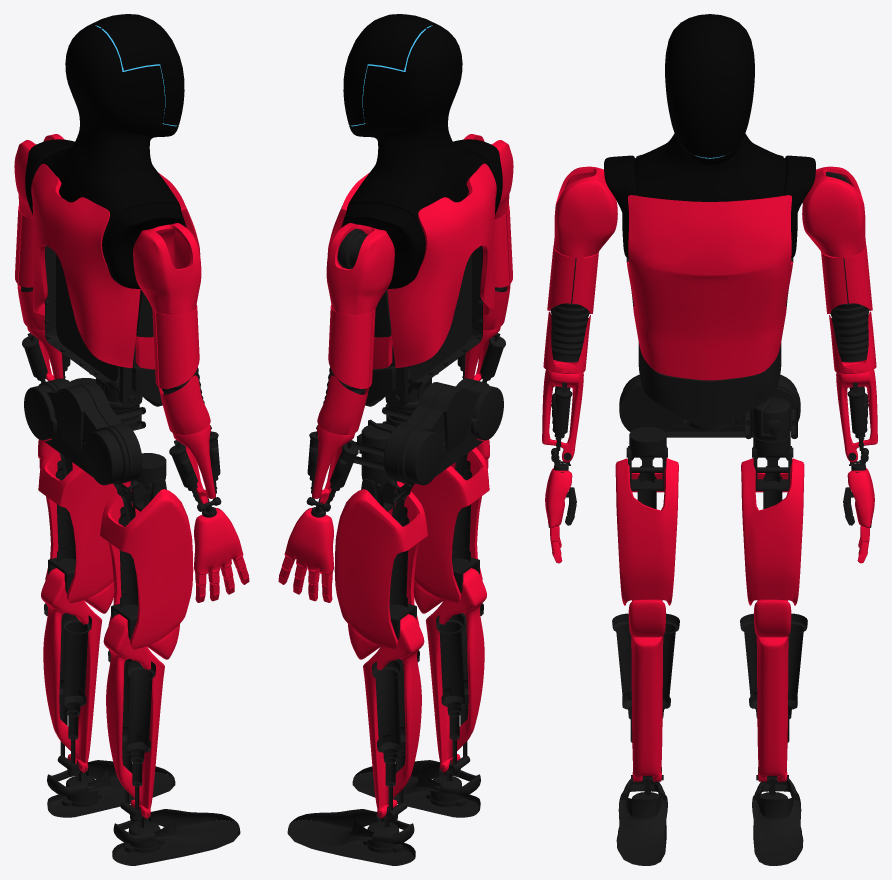
Rendered from viral-analyst.glb.
3 views of the same model, side by side, from view 1: azimuth 30°, elevation 25°; view 2: azimuth 150°, elevation 25°; view 3: azimuth 270°, elevation 25° (orthographic).
Visible parts, largest first — view 1: Cube.001; view 2: Cube.001; view 3: Cube.001.
Part boxes in pixels (<box>): Cube.001: <box>14,14,249,865</box>; Cube.001: <box>278,14,513,865</box>; Cube.001: <box>542,14,877,865</box>.
Size of the model in its own units: 0.3406 by 1.7 by 0.6396.
